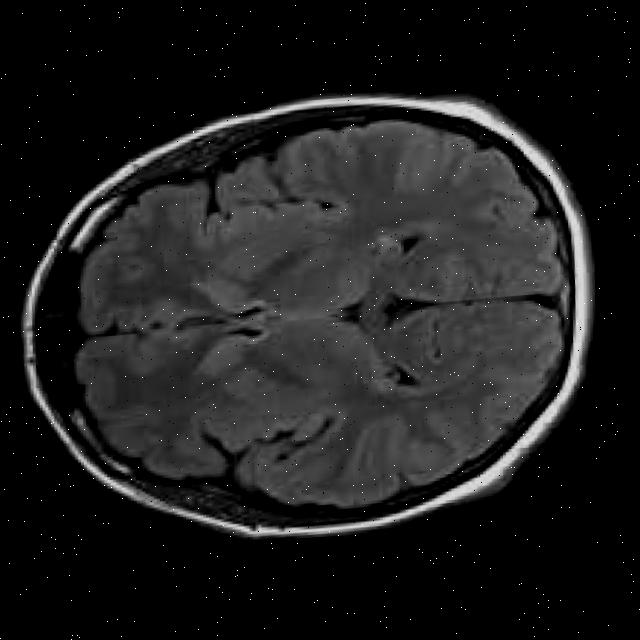NoTumor: (0, 66, 623, 564)
